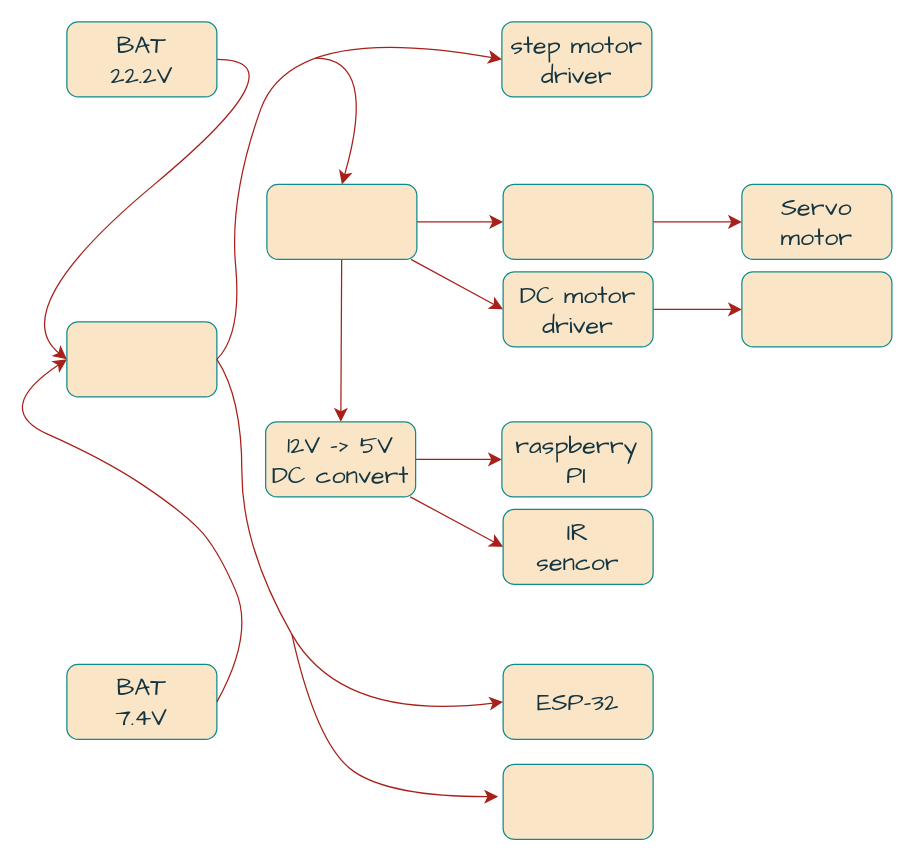
Image size: 914x861. Some labels were removed from this diagram. The box of each missing label's shape, as (x1, y1, x2, y2) in pixels:
22.2V -> 12V DC convert: (266, 183, 417, 259)
Arduino UNO: (502, 763, 653, 839)
DC motor: (741, 271, 892, 347)
openRB-150: (502, 183, 653, 259)
Switch: (66, 321, 217, 397)
